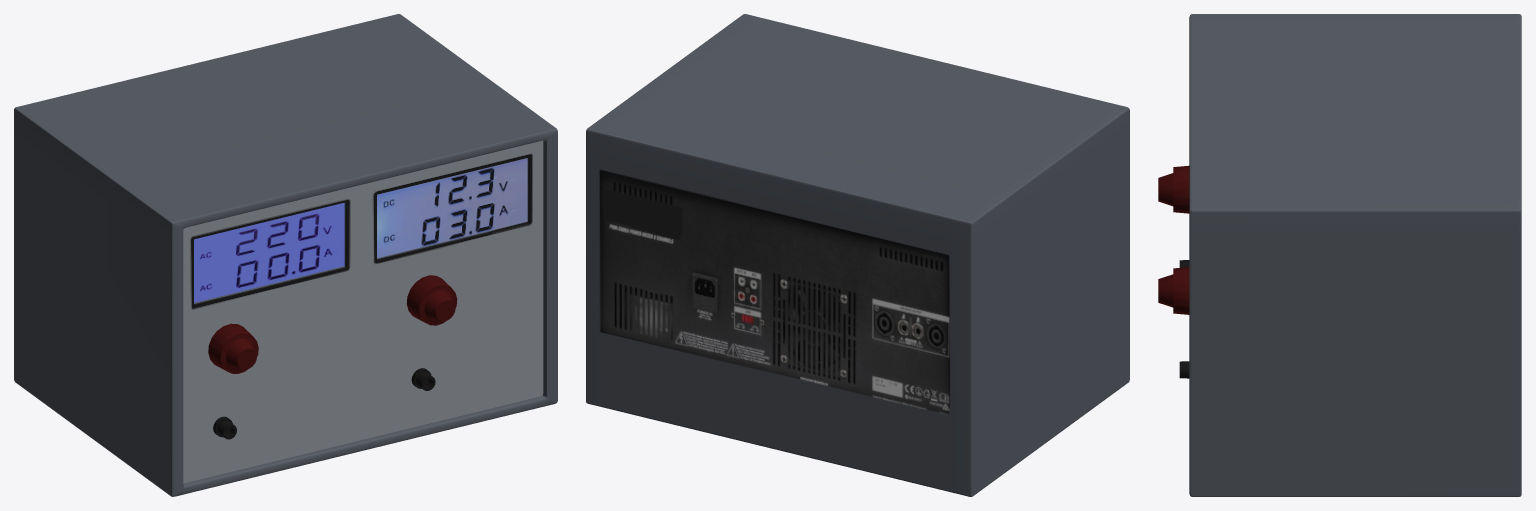
Rendered from DeviceD1.fbx.
3 views of the same model, side by side, from view 1: azimuth 30°, elevation 25°; view 2: azimuth 150°, elevation 25°; view 3: azimuth 270°, elevation 25° (orthographic). The views are drawn at different scales.
Parts seen in each view (by area): view 1: DeviceD1; view 2: DeviceD1; view 3: DeviceD1.
Part boxes in pixels (x1,y1,x2,y2): DeviceD1: [14, 14, 557, 496]; DeviceD1: [586, 14, 1129, 496]; DeviceD1: [1158, 14, 1521, 496].
Bounding box in the file's own units: 36.01 × 24.47 × 28.04.
